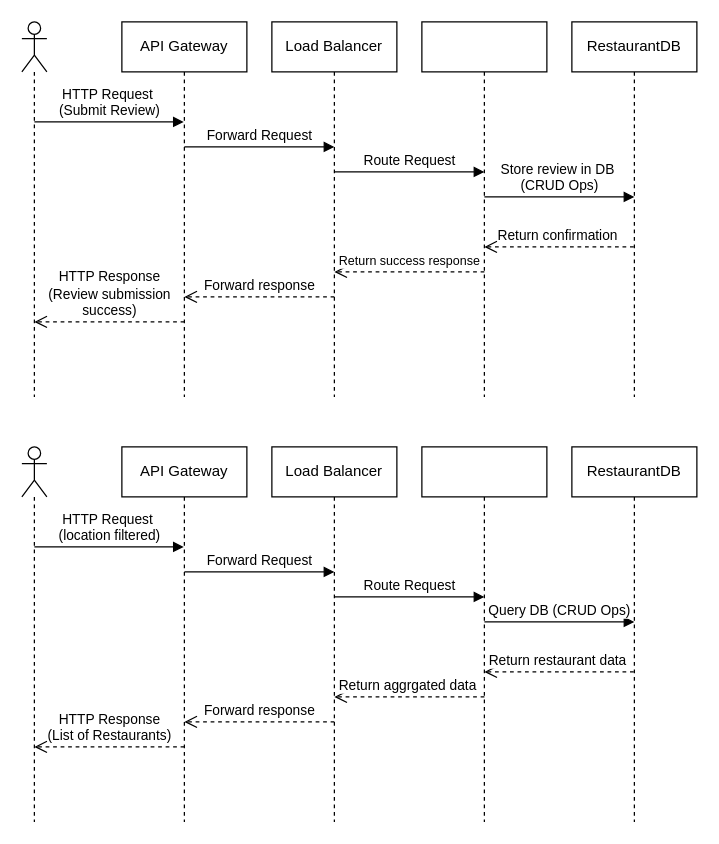
The diagram is 719 pixels wide and 844 high, and some of its shapes have lost their labels. Each missing label, with the box of its shape:
Restaurant Discovery Microservice: (421, 446, 547, 822)
Review Microservice: (421, 21, 547, 397)
